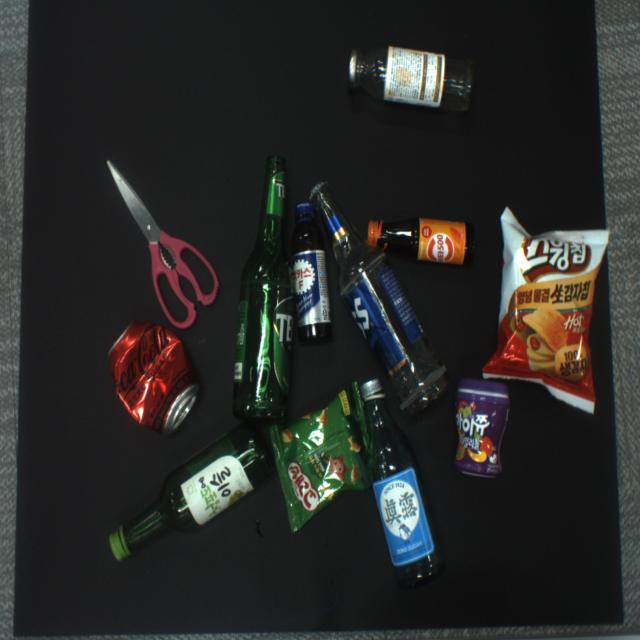beer-bottle: (309, 182, 449, 415), (233, 155, 296, 423)
soju-bottle: (110, 424, 274, 560), (360, 379, 441, 588)
